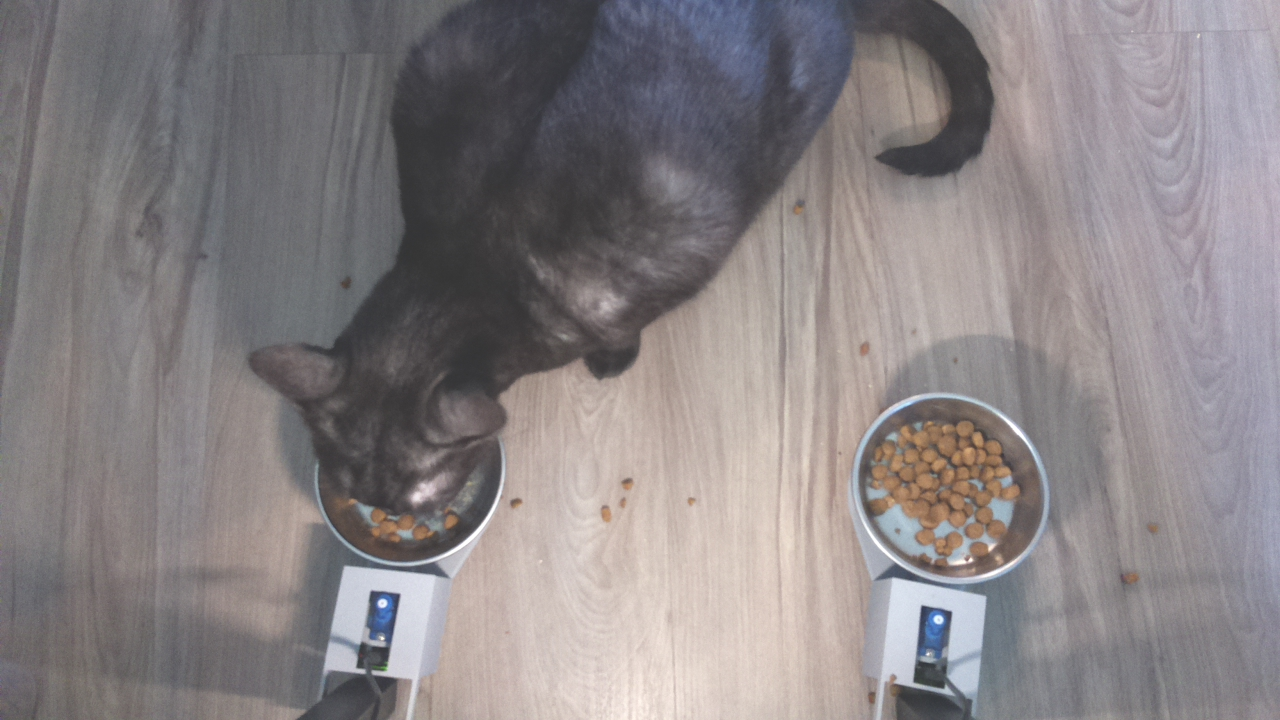open_bowl: (847, 391, 1051, 589)
saki_eating: (249, 299, 515, 578)
